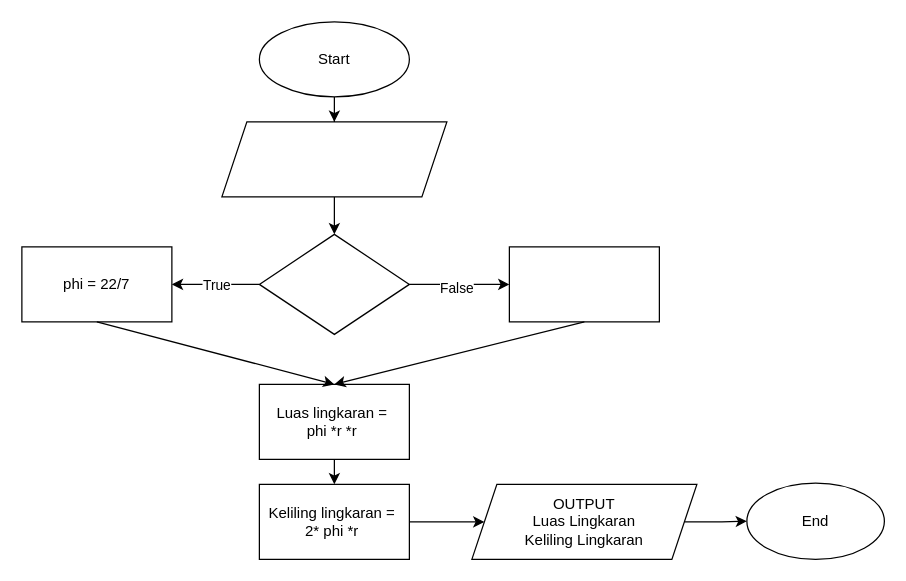
This 906x581 diagram has some shape labels left out. The shapes that lost their labels are listed below. From the top down, each one's box as (x1, y1, x2, y2) in pixels, then its label:
(221, 121, 447, 197): INPUT jari-jari lingkaran (r)
(258, 233, 409, 334): r mod 7 = 0
(508, 246, 659, 322): phi = 3,14
